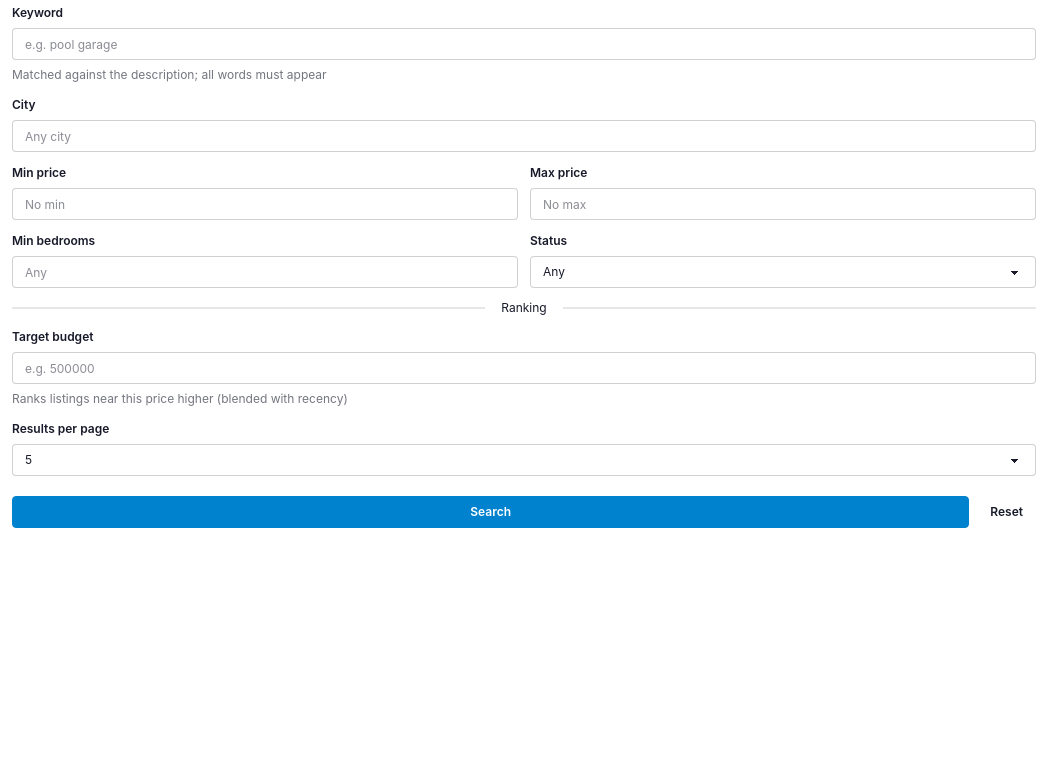
Test: <SearchForm /> › rejects non-numeric input and clears the error once corrected
Type "two" into the field with id "minBedrooms" at (265, 272), box [12,256,518,288]
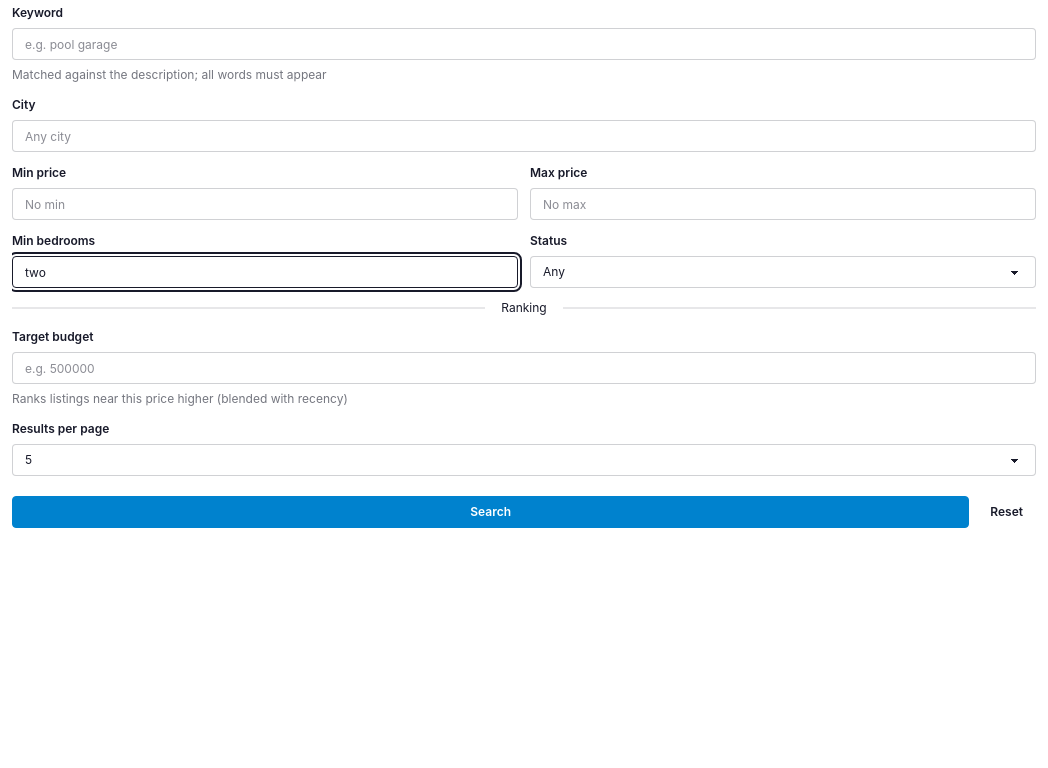
Click the button "Search" at (491, 512), box [12,496,969,528]
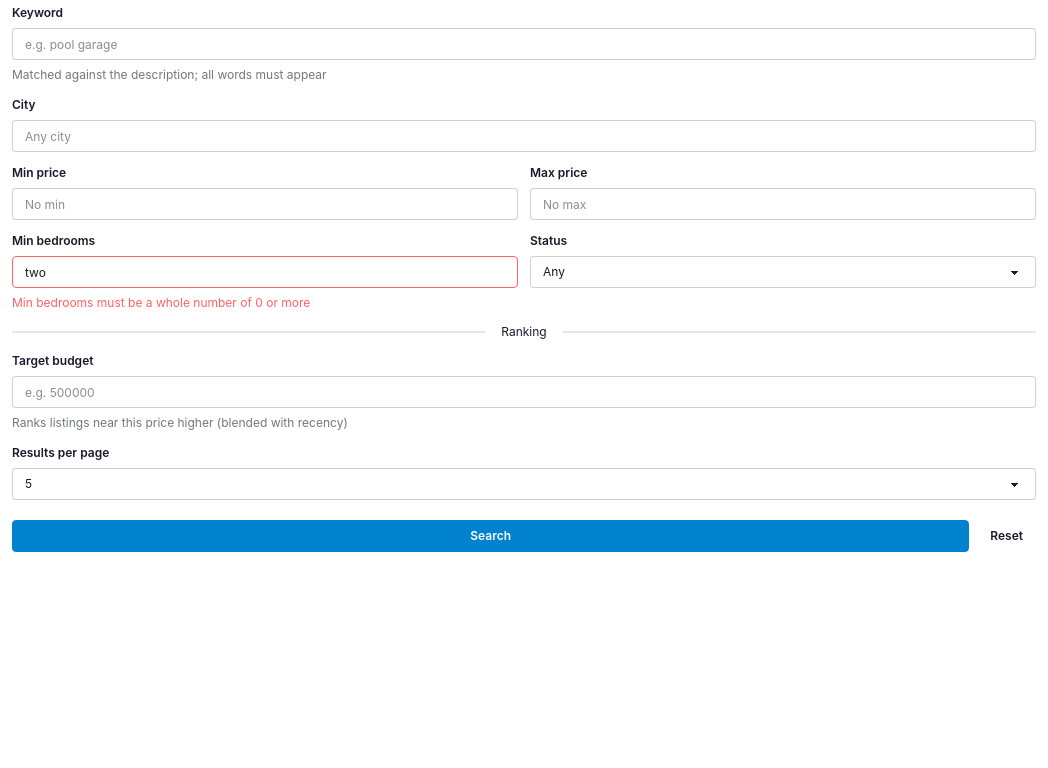
Check: the message with id "minBedrooms-error" shows "whole number", box [12,295,310,310]
Replace the text in the field with id "minBedrooms" with "2" at (265, 272), box [12,256,518,288]
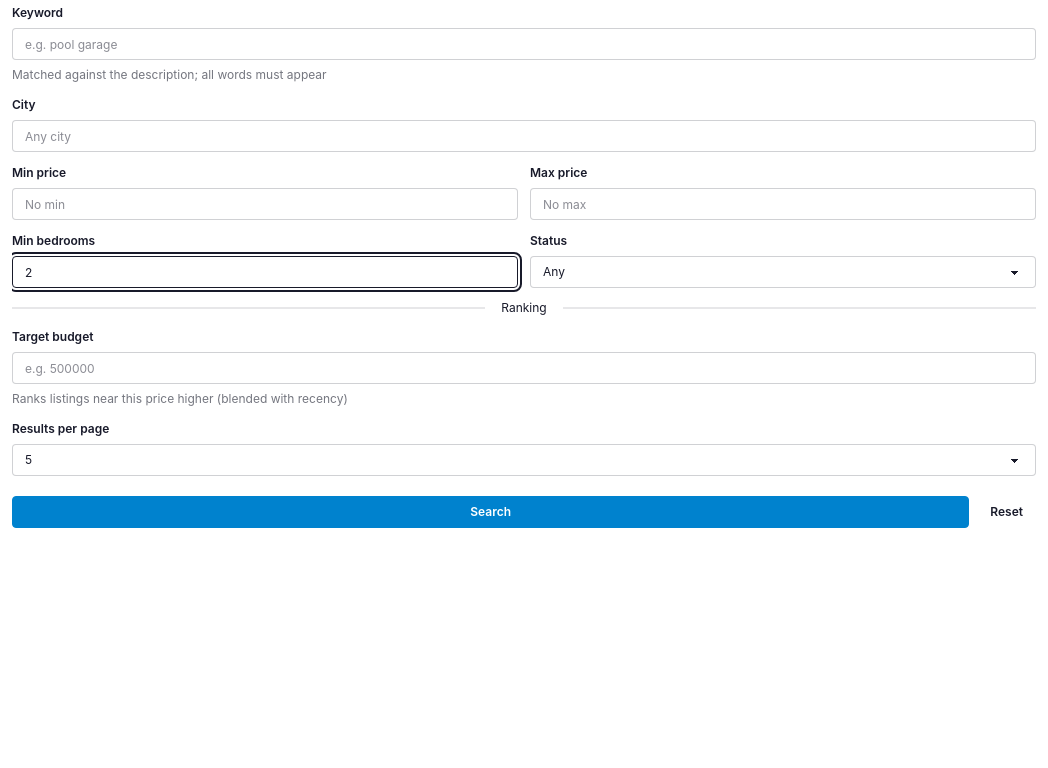
Check: the message with id "minBedrooms-error" is gone
